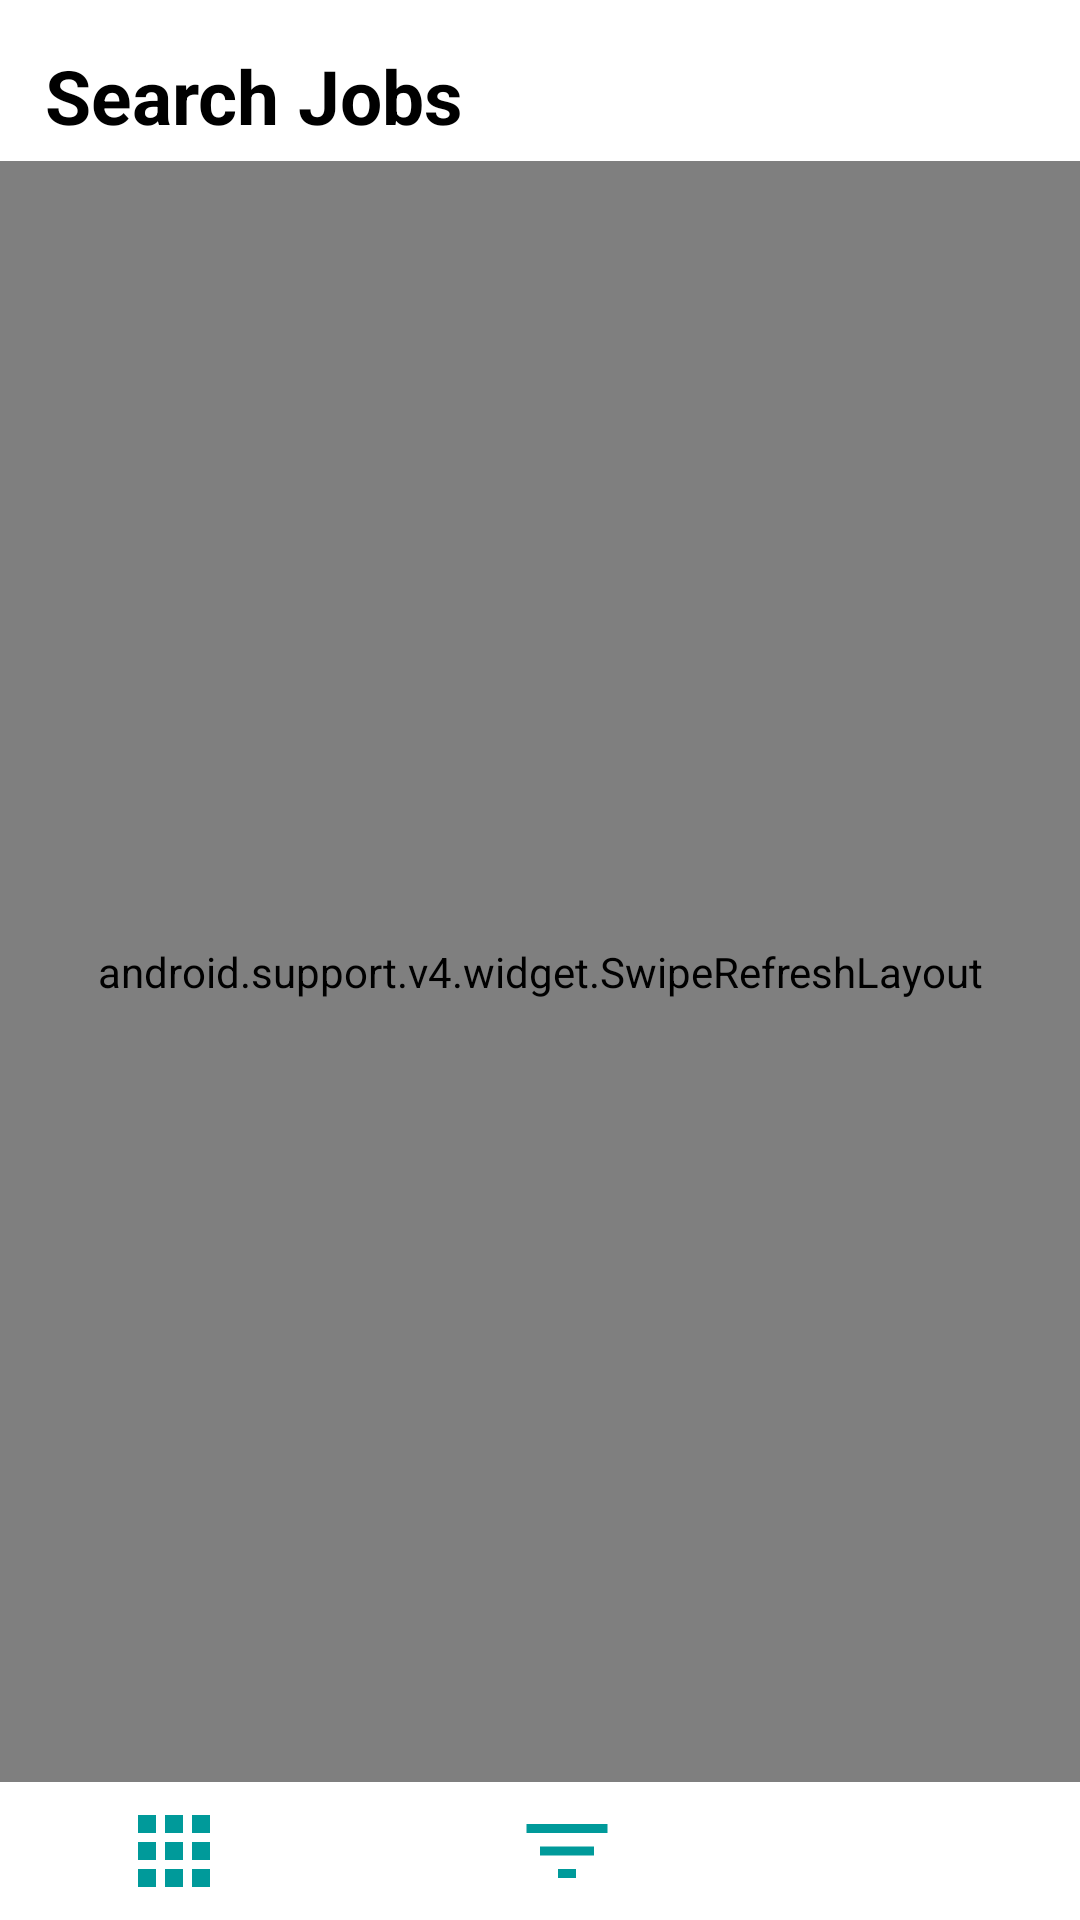

Named icons in this screenshot (1080×1920) and their centers, point (x, y):
apps: point (174, 1851)
filter list: point (567, 1851)
